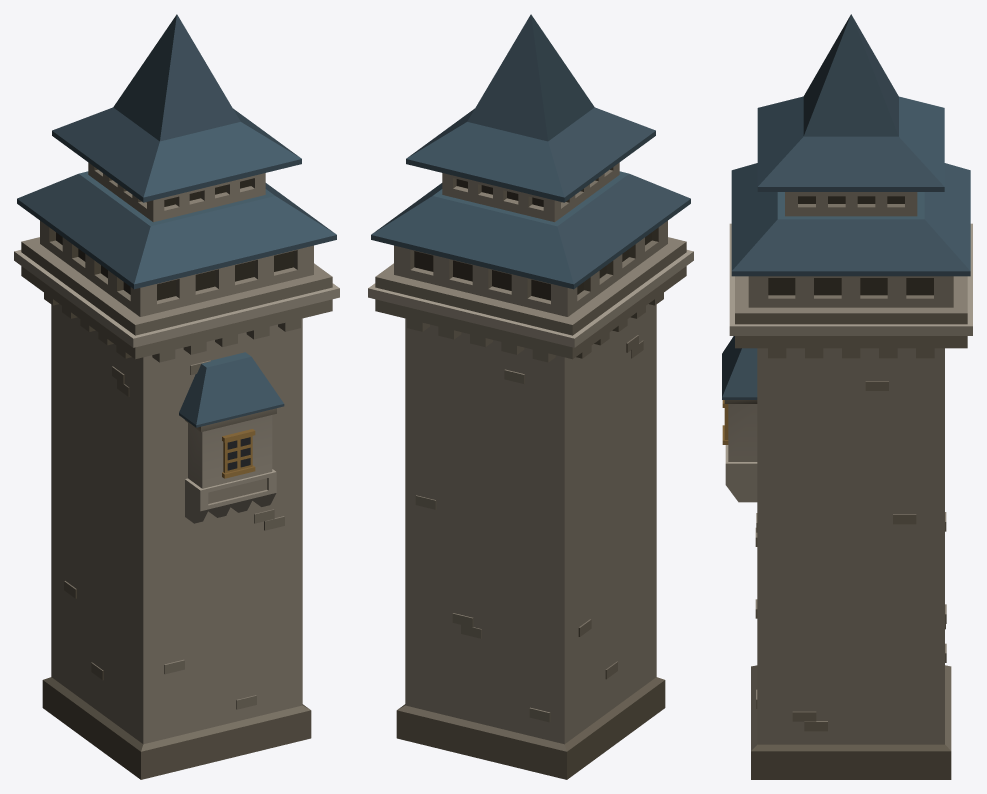
The model's file is SF_Bld_Castle_Tower_02.fbx.
3 renders of one model, left to right at view 1: azimuth 30°, elevation 25°; view 2: azimuth 150°, elevation 25°; view 3: azimuth 270°, elevation 25°, orthographic. The views are drawn at different scales.
Parts seen in each view (by area): view 1: SF_Bld_Castle_Tower_02; view 2: SF_Bld_Castle_Tower_02; view 3: SF_Bld_Castle_Tower_02.
Part boxes in pixels (x1,y1,x2,y2): SF_Bld_Castle_Tower_02: [14, 14, 339, 779]; SF_Bld_Castle_Tower_02: [368, 14, 693, 779]; SF_Bld_Castle_Tower_02: [722, 14, 972, 779].
Size of the model in its own units: 12.85 by 42.18 by 13.24.
